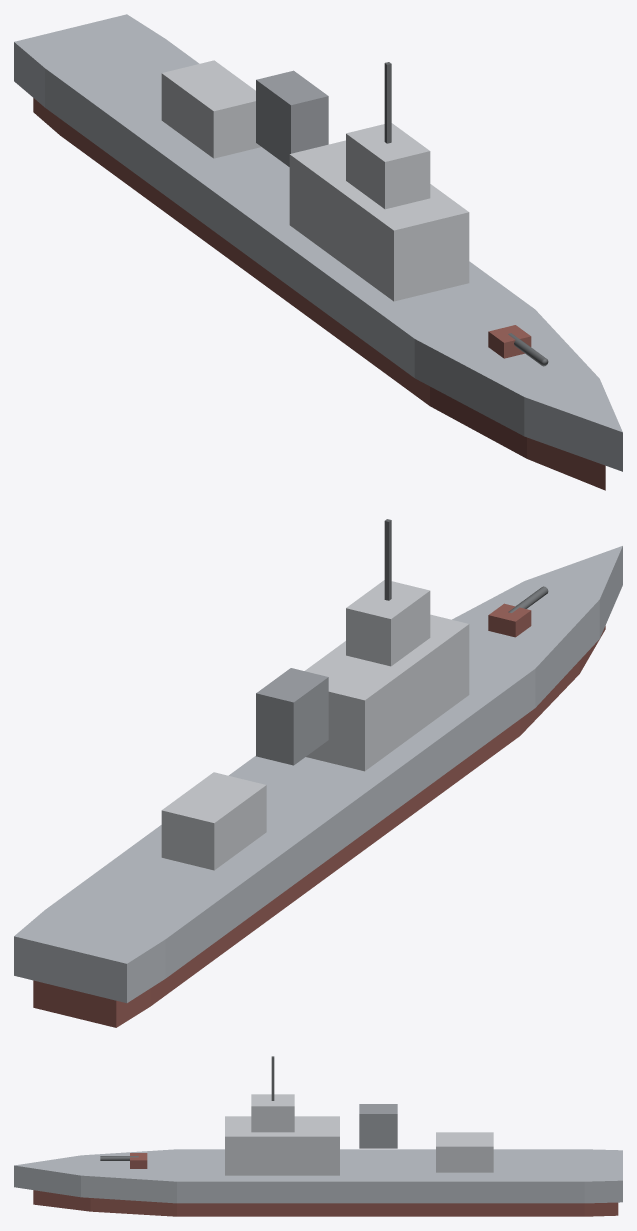
The model's file is ship.glb.
3 renders of one model, top to bottom at view 1: azimuth 30°, elevation 25°; view 2: azimuth 150°, elevation 25°; view 3: azimuth 270°, elevation 25°, orthographic. The views are drawn at different scales.
Parts seen in each view (by area): view 1: ship; view 2: ship; view 3: ship.
Boxes of the visible parts, x1,y1,x2,y2 form: ship: (14, 14, 622, 490); ship: (14, 519, 622, 1027); ship: (14, 1056, 622, 1216).
Bounding box in the file's own units: 16 × 34 × 127.
